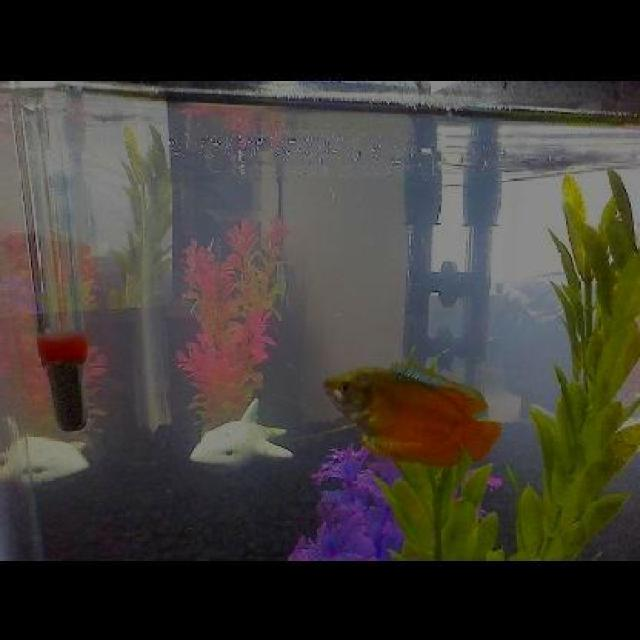Gourami: (327, 358, 498, 470)
